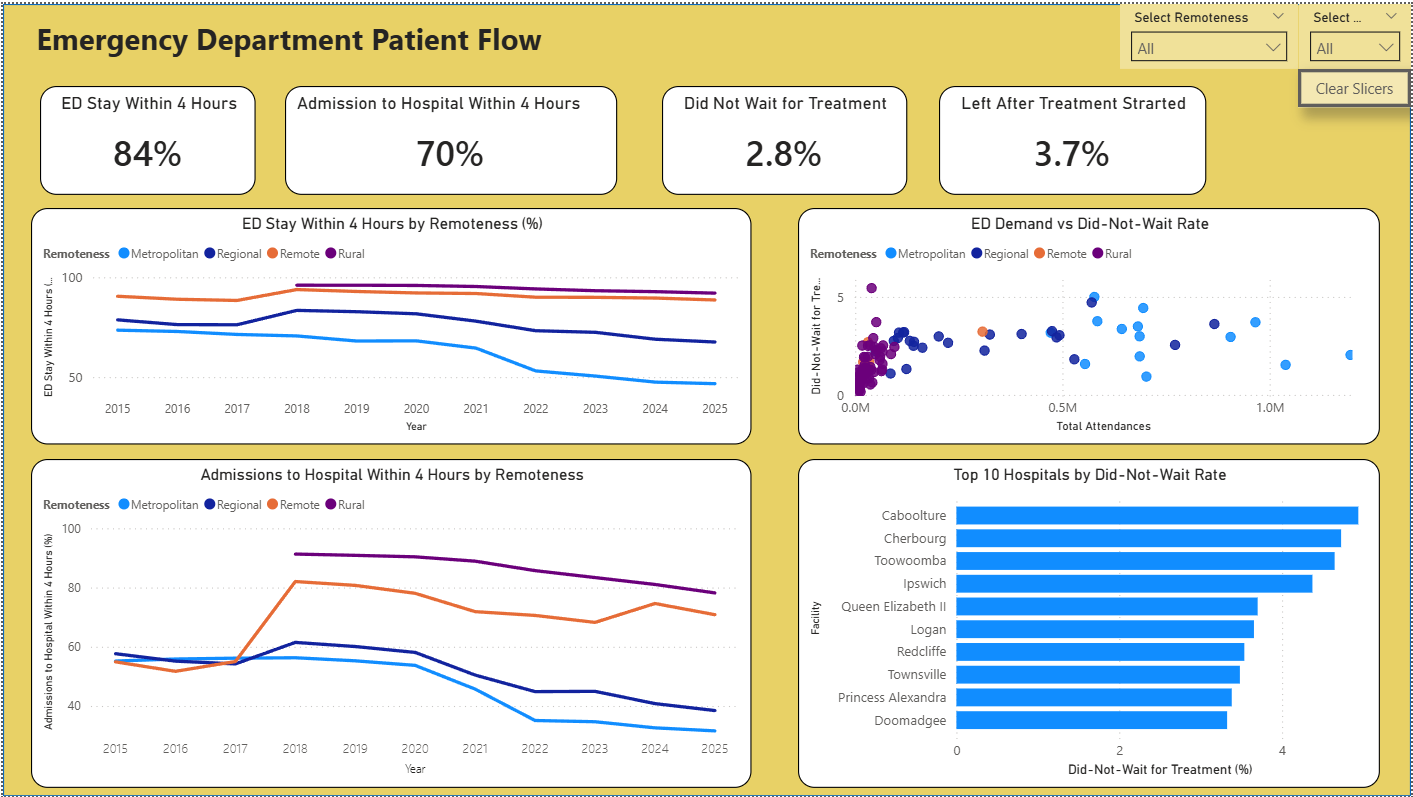

Layout of this report page (visuals, bound fields, positions):
{"tool":"powerbi","page":{"name":"Pillar 3 - Emergency Department Patient Flow","canvas":[1280,720],"ordinal":2},"visuals":[{"type":"shape","box":[0,0,1280,720.2],"z":0},{"type":"cardVisual","title":"ED Stay Within 4 Hours","fields":{"Data":["Pillar3_1.ED Stay Within 4 Hours Display"]},"box":[25.7,74.4,196.7,99.2],"z":1000},{"type":"cardVisual","title":"Admission to Hospital Within 4 Hours","fields":{"Data":["Pillar3_1.Admission Within 4 Hours"]},"box":[246.3,74.4,301.9,99.2],"z":2000},{"type":"cardVisual","title":"Did Not Wait for Treatment","fields":{"Data":["Pillar3_2.Did Not Wait Display"]},"box":[572.1,74.4,222.3,99.2],"z":3000},{"type":"cardVisual","title":"Left After Treatment Strarted","fields":{"Data":["Pillar3_2.Left After Treatment Commenced Display"]},"box":[818.3,74.4,242.9,99.2],"z":4000},{"type":"lineChart","title":"ED Stay Within 4 Hours by Remoteness (%)","fields":{"Category":["Pillar3_1.year"],"Y":["Avg(Pillar3_1.weighted_ed_stay_within_4_hours_pct)"],"Series":["Pillar3_1.remoteness"]},"box":[25.5,185.5,654.5,214.5],"z":5000},{"type":"lineChart","title":"Admissions to Hospital Within 4 Hours by Remoteness","fields":{"Category":["Pillar3_1.year"],"Y":["Avg(Pillar3_1.weighted_admitted_to_hospital_within_4_hours_pct)"],"Series":["Pillar3_1.remoteness"]},"box":[25.5,413.6,654.5,299.1],"z":6000},{"type":"barChart","title":"Top 10 Hospitals by Did-Not-Wait Rate","fields":{"Category":["Pillar3_2.facility_name"],"Y":["Avg(Pillar3_2.calculated_did_not_wait_for_treatment_pct)"]},"box":[722.7,413.6,529.1,299.1],"z":7000},{"type":"scatterChart","title":"ED Demand vs Did-Not-Wait Rate","fields":{"Category":["Pillar3_2.facility_name"],"Series":["Pillar3_2.remoteness"],"X":["Pillar3_2.Total Attendances"],"Y":["Pillar3_2.Did Not Wait %"]},"box":[722.7,185.5,529.1,214.5],"z":8000},{"type":"textbox","box":[25.5,8.2,495.5,50.9],"z":9000},{"type":"slicer","fields":{"Values":["DimYear.Year"]},"box":[1178.2,0,101.8,59.1],"z":10000},{"type":"slicer","fields":{"Values":["DimRemoteness.Remoteness"]},"box":[1015.5,0,161.8,59.1],"z":11000},{"type":"actionButton","box":[1177.3,59.1,102.7,34.5],"z":12000}]}

Visuals, with their boxes in screenshot pixels (x1, y1, x2, y2), scaled from the page's 1280x720 canvas onto the 1413x797 screenshot:
shape: bbox(0, 0, 1412, 796)
"ED Stay Within 4 Hours" cardVisual: bbox(28, 82, 246, 192)
"Admission to Hospital Within 4 Hours" cardVisual: bbox(272, 82, 605, 192)
"Did Not Wait for Treatment" cardVisual: bbox(632, 82, 877, 192)
"Left After Treatment Strarted" cardVisual: bbox(903, 82, 1171, 192)
"ED Stay Within 4 Hours by Remoteness (%)" lineChart: bbox(28, 205, 751, 443)
"Admissions to Hospital Within 4 Hours by Remoteness" lineChart: bbox(28, 458, 751, 789)
"Top 10 Hospitals by Did-Not-Wait Rate" barChart: bbox(798, 458, 1382, 789)
"ED Demand vs Did-Not-Wait Rate" scatterChart: bbox(798, 205, 1382, 443)
textbox: bbox(28, 9, 575, 65)
slicer - DimYear.Year: bbox(1301, 0, 1412, 65)
slicer - DimRemoteness.Remoteness: bbox(1121, 0, 1300, 65)
actionButton: bbox(1300, 65, 1412, 104)
